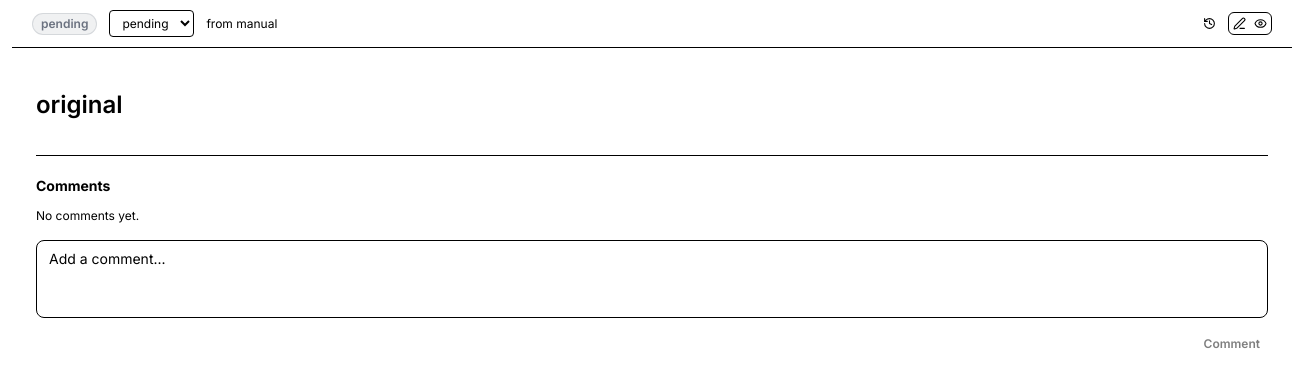
Scenario: TaskDetailBody failed saves › says the save failed and keeps offering the retry
Click the button titled "Edit" at [1240, 24], box [1229, 13, 1250, 34]
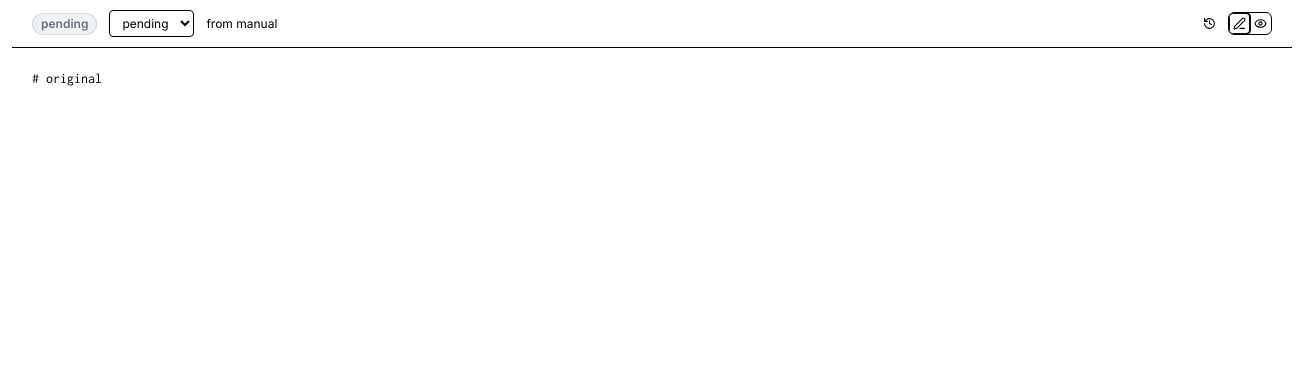
Type " plus my notes" into the text box with placeholder "Task content..." at [652, 91], box [12, 48, 1292, 134]
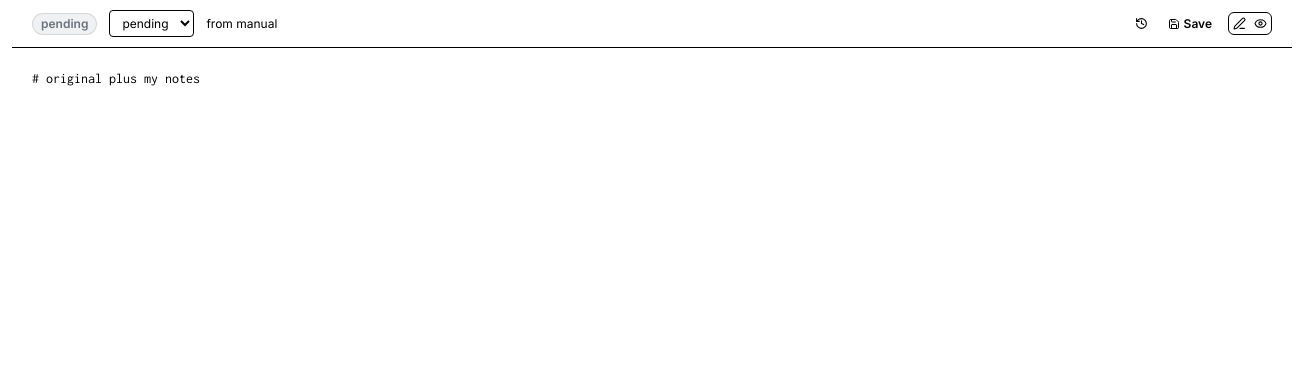
Click the button "Save" at [1190, 24], box [1160, 12, 1220, 36]
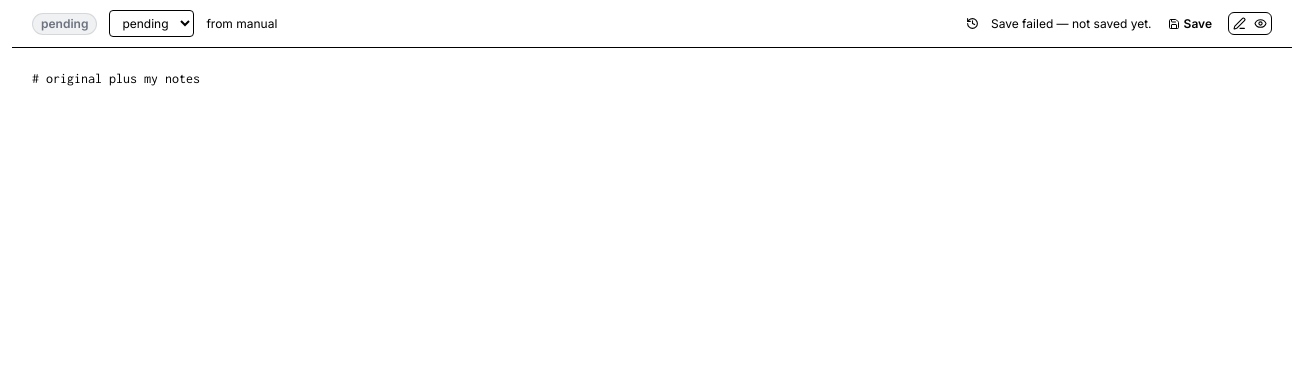
Expected: the text box with placeholder "Task content..." holds "# original plus my notes", [12, 48, 1292, 134]
Expected: the button "Save" is shown, [1160, 12, 1220, 36]
Expected: the message shows "Save failed", [991, 16, 1152, 30]
